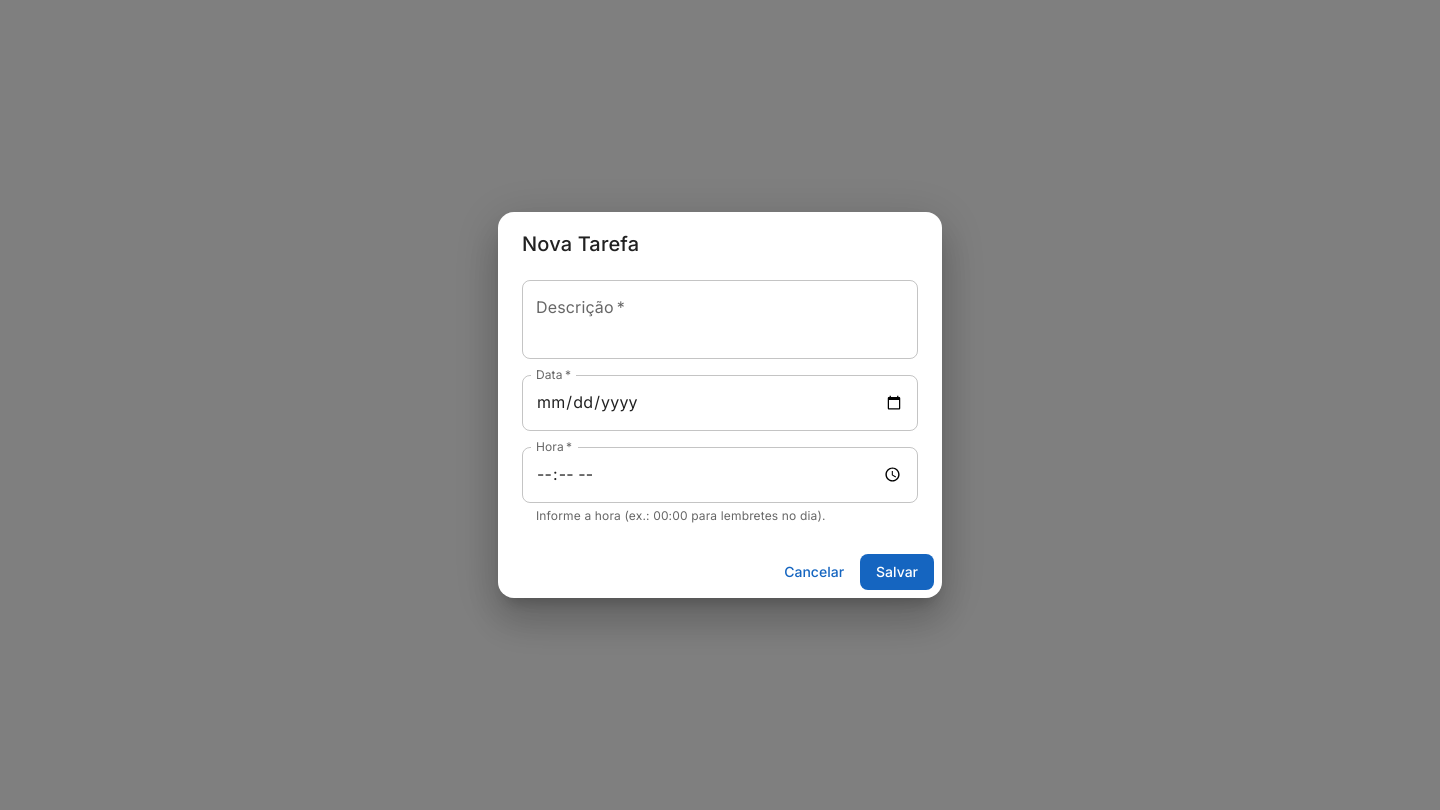
Test: TaskForm › AC-2: shows validation errors when submitting empty form
The image size is (1440, 810).
// Submit without filling any field
Click the button "Salvar".
click(897, 572)  # box [860,554,934,590]
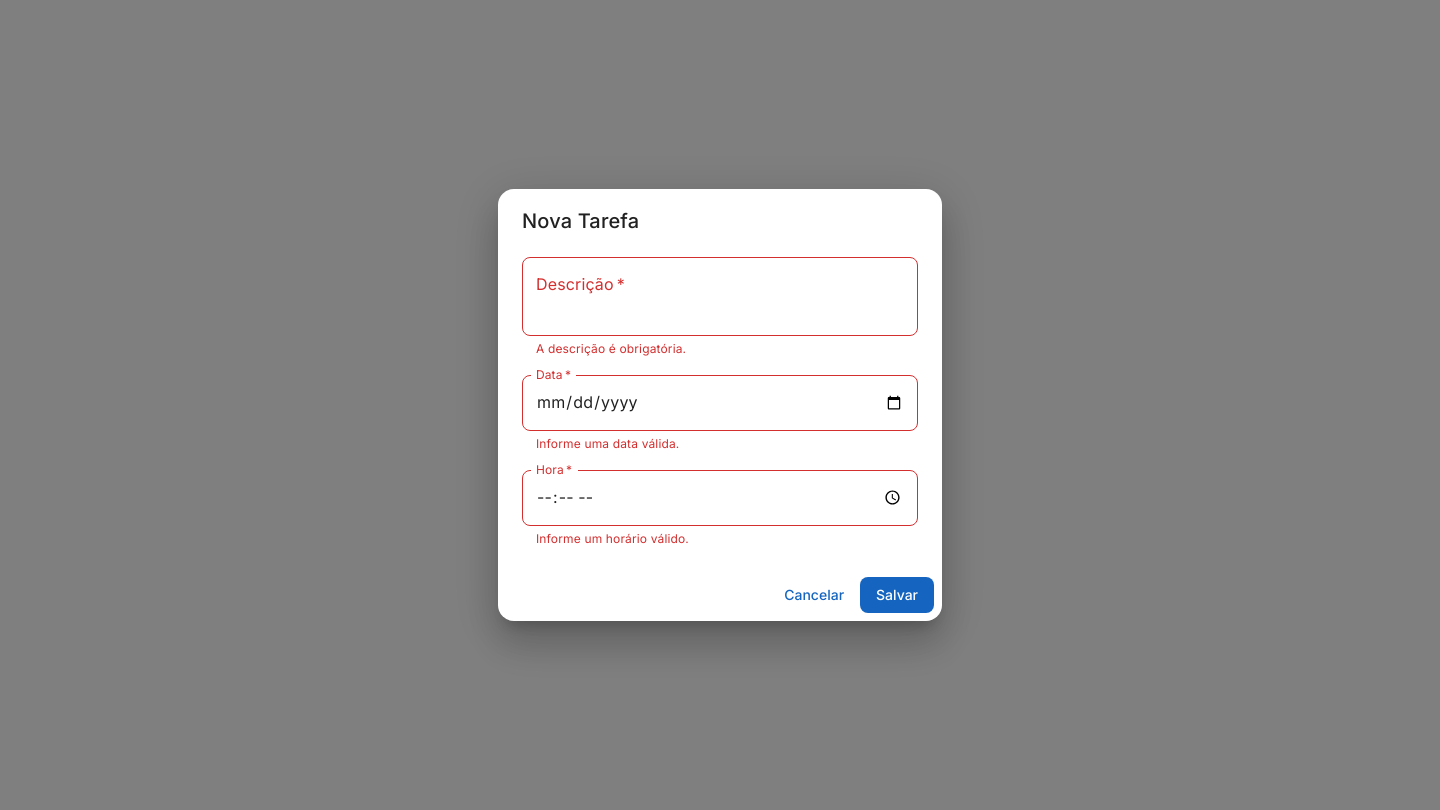
Expected: the text "A descrição é obrigatória." is shown, [536,341,686,356]
Expected: the text "Informe uma data válida." is shown, [536,436,680,451]
